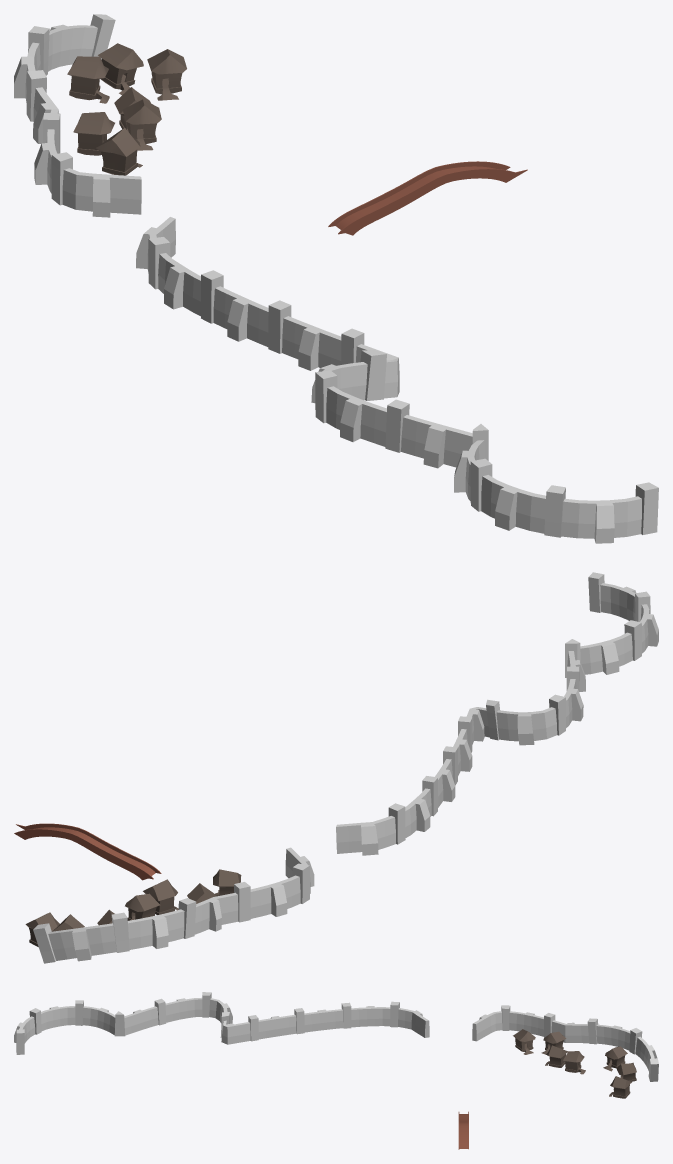
File: chunk055.glb
3 renders of one model, top to bottom at view 1: azimuth 30°, elevation 25°; view 2: azimuth 150°, elevation 25°; view 3: azimuth 270°, elevation 25°, orthographic. The views are drawn at different scales.
Visible parts, largest first — view 1: village_wall2-col, village_wall-col, village_bridge-col, village_hut1-col.002, village_hut1-col, village_hut1-col.006, village_hut1-col.001, village_hut1-col.005, village_hut1-col.004; view 2: village_wall2-col, village_wall-col, village_bridge-col, village_hut1-col.005, village_hut1-col.003; view 3: village_wall2-col, village_wall-col, village_hut1-col.006, village_bridge-col, village_hut1-col.003, village_hut1-col.002, village_hut1-col, village_hut1-col.005, village_hut1-col.004, village_hut1-col.001.
Part boxes in pixels (box(x1,y1,x2,y2)): village_wall2-col: box(136, 217, 658, 543); village_wall-col: box(14, 14, 141, 217); village_bridge-col: box(328, 161, 527, 235); village_hut1-col.002: box(67, 56, 109, 103); village_hut1-col: box(147, 49, 186, 100); village_hut1-col.006: box(96, 127, 142, 175); village_hut1-col.001: box(98, 43, 143, 94); village_hut1-col.005: box(122, 99, 161, 150); village_hut1-col.004: box(73, 112, 114, 155); village_wall2-col: box(336, 572, 658, 855); village_wall-col: box(33, 847, 314, 963); village_bridge-col: box(14, 823, 161, 880); village_hut1-col.005: box(143, 879, 178, 914); village_hut1-col.003: box(125, 893, 160, 920); village_wall2-col: box(14, 992, 429, 1054); village_wall-col: box(472, 1005, 658, 1081); village_hut1-col.006: box(513, 1029, 535, 1054); village_bridge-col: box(458, 1111, 468, 1149); village_hut1-col.003: box(563, 1051, 585, 1074); village_hut1-col.002: box(603, 1046, 627, 1071); village_hut1-col: box(609, 1076, 631, 1098); village_hut1-col.005: box(545, 1045, 567, 1067); village_hut1-col.004: box(541, 1031, 566, 1054); village_hut1-col.001: box(616, 1062, 636, 1081).
Bounding box in the file's own units: 132 × 30.98 × 318.
